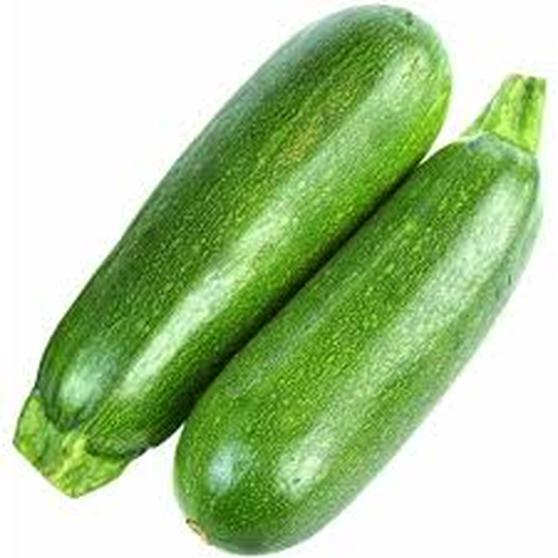zucchini: (181, 123, 548, 558)
